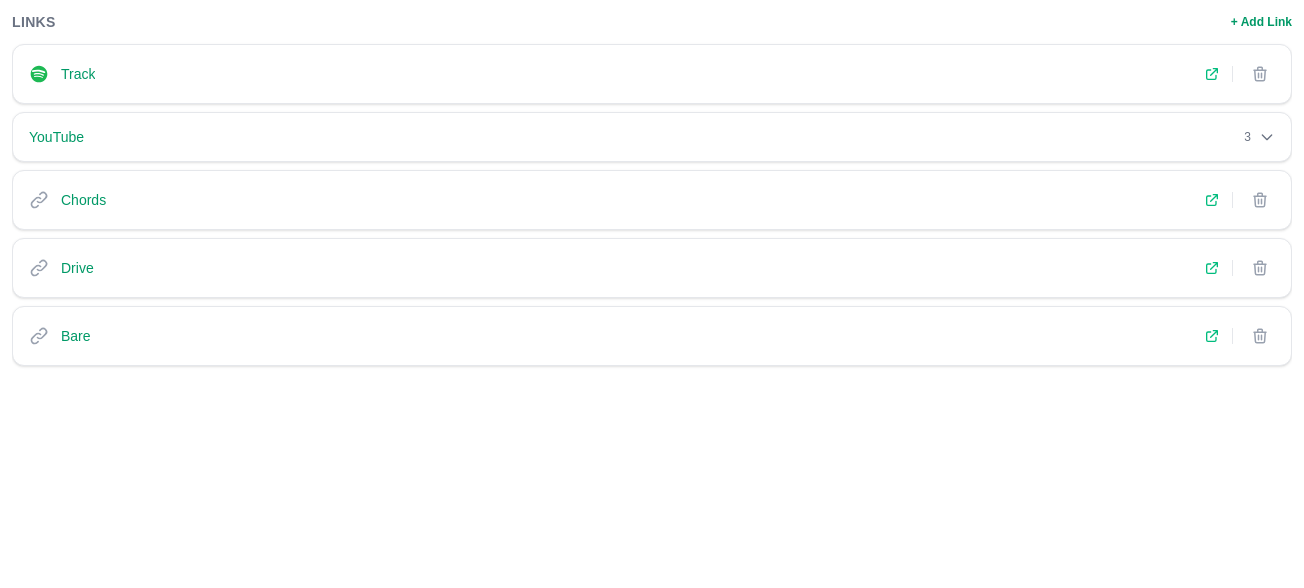
LinksSection › grouped by provider (RH-145) › renders a group row as a button without href that reveals every link as an anchor in input order
Step 1. Click the button "YouTube 3" → (57, 137), box [12,112,1292,162]
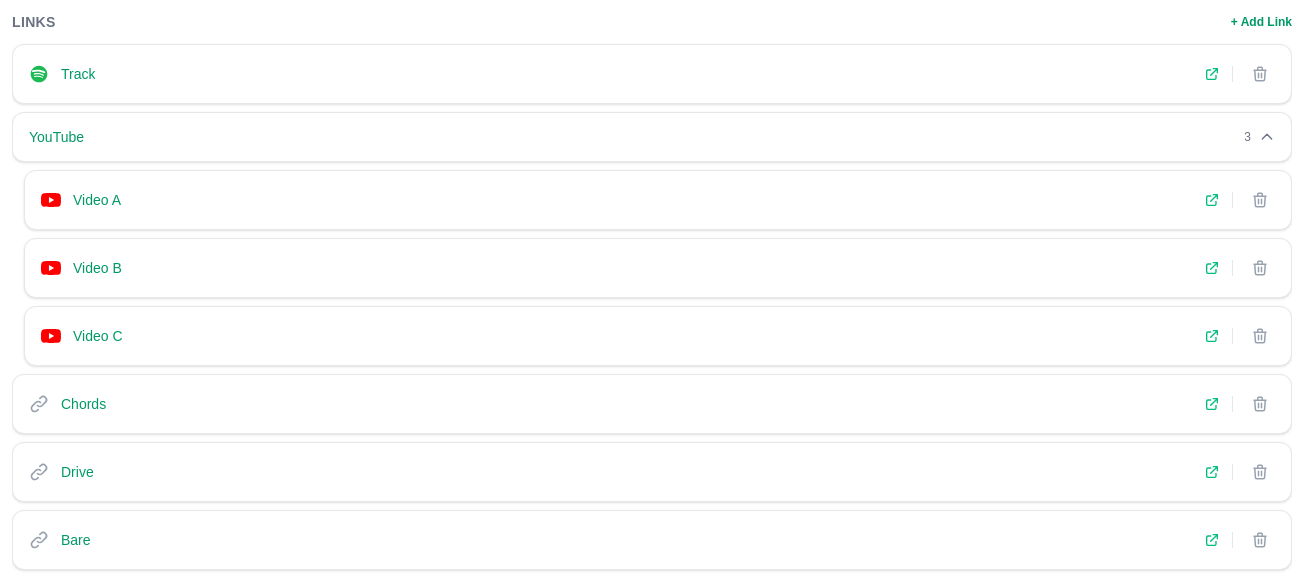
Result: the button "YouTube 3" is expanded
Step 2. Click the button "YouTube 3" → (57, 137), box [12,112,1292,162]
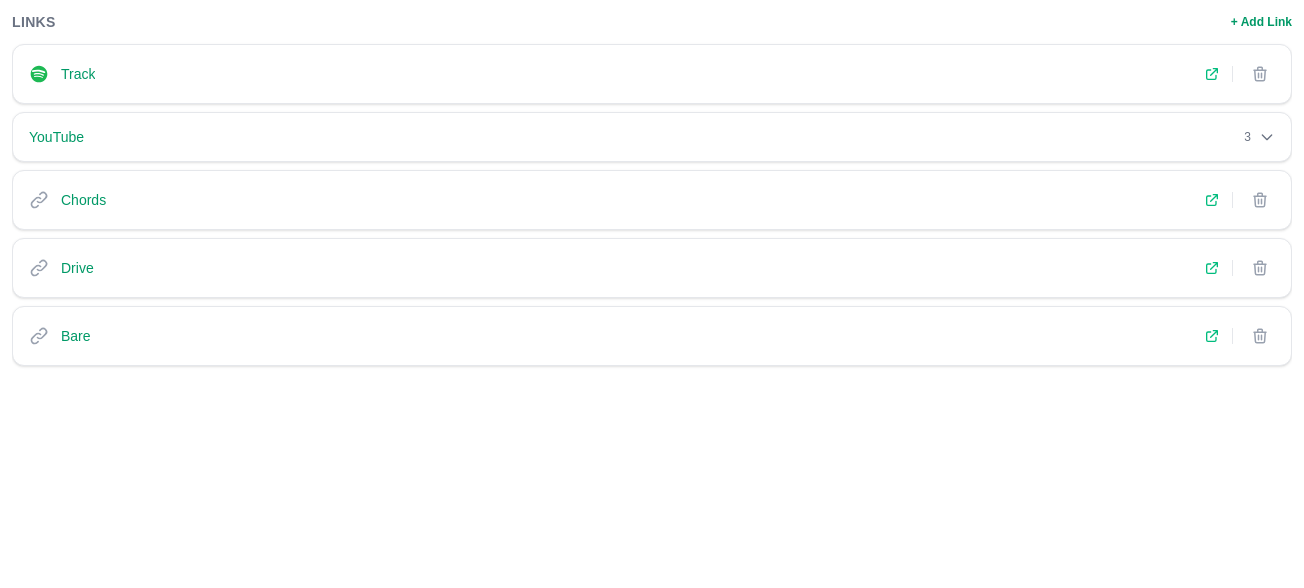
Result: the link "Video A" is gone
